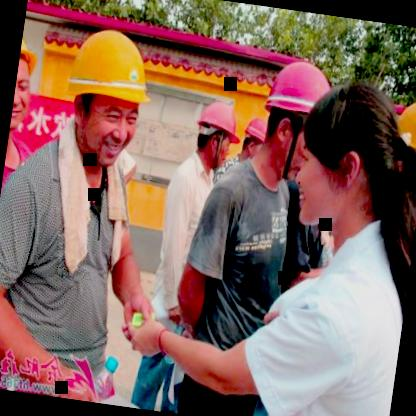helmet: (57, 26, 162, 168), (249, 53, 336, 186), (190, 98, 244, 174), (8, 30, 44, 136), (232, 114, 274, 168)
